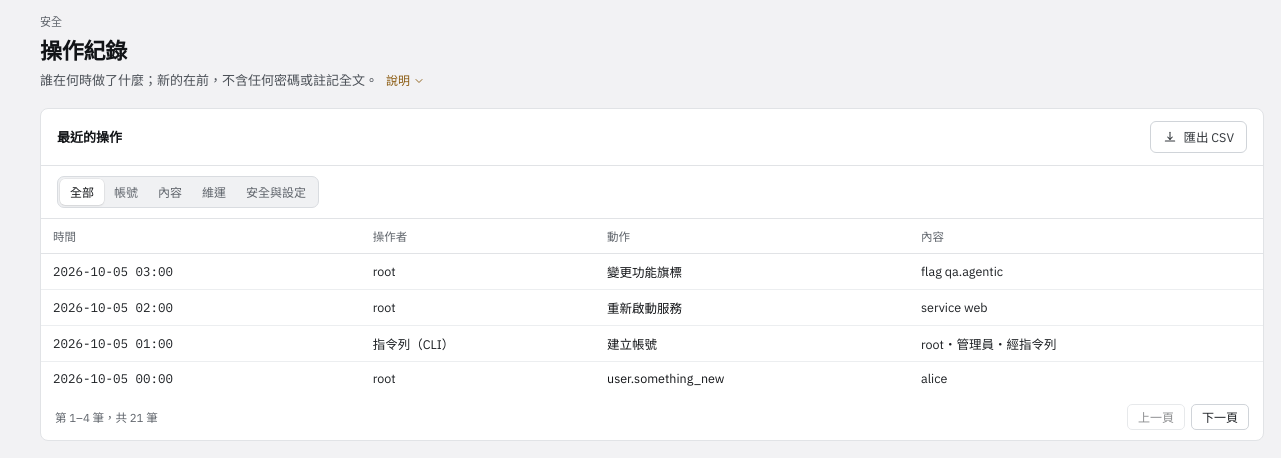
Scenario: 操作紀錄：CLI 操作顯示為指令列、未知 action 原樣顯示、可翻頁（頁碼在 URL）
The image size is (1281, 458).
Expected: the heading "操作紀錄" is shown, [40,36,127,65]
Expected: the cell "指令列（CLI）" is shown, [361,325,595,361]
Click the button "下一頁" at coordinates (1220, 417), box [1191,404,1249,430]
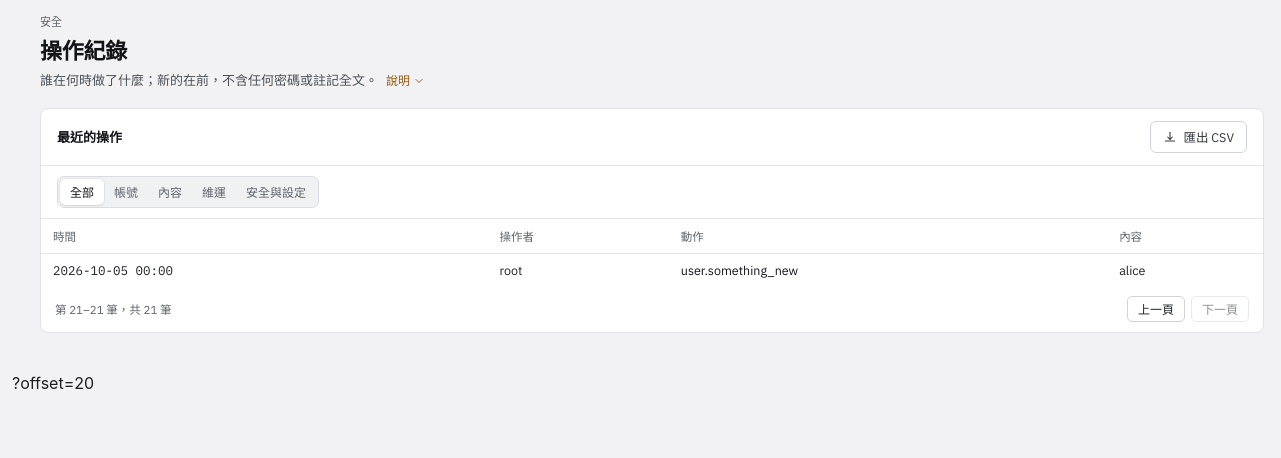
Result: the text with test id "where" reads "?offset=20" at [12,373,94,393]
Result: the text "第 21–21 筆，共 21 筆" is shown at [55,301,172,317]
Result: the button "下一頁" is disabled at [1191,296,1249,322]
Click the button "上一頁" at coordinates (1156, 309), box [1127,296,1185,322]
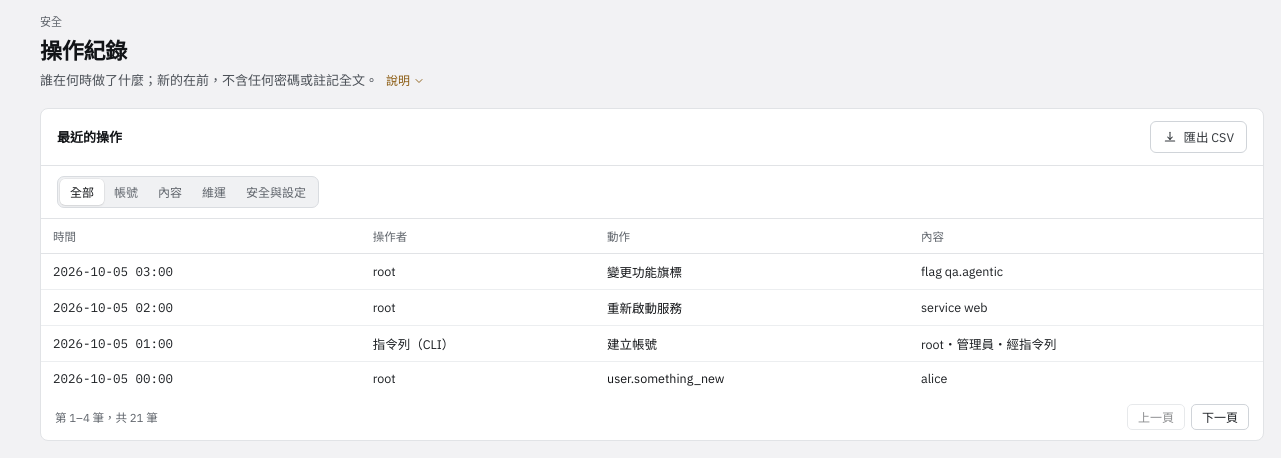
Result: the text "第 1–4 筆，共 21 筆" is shown at [55,409,158,425]
